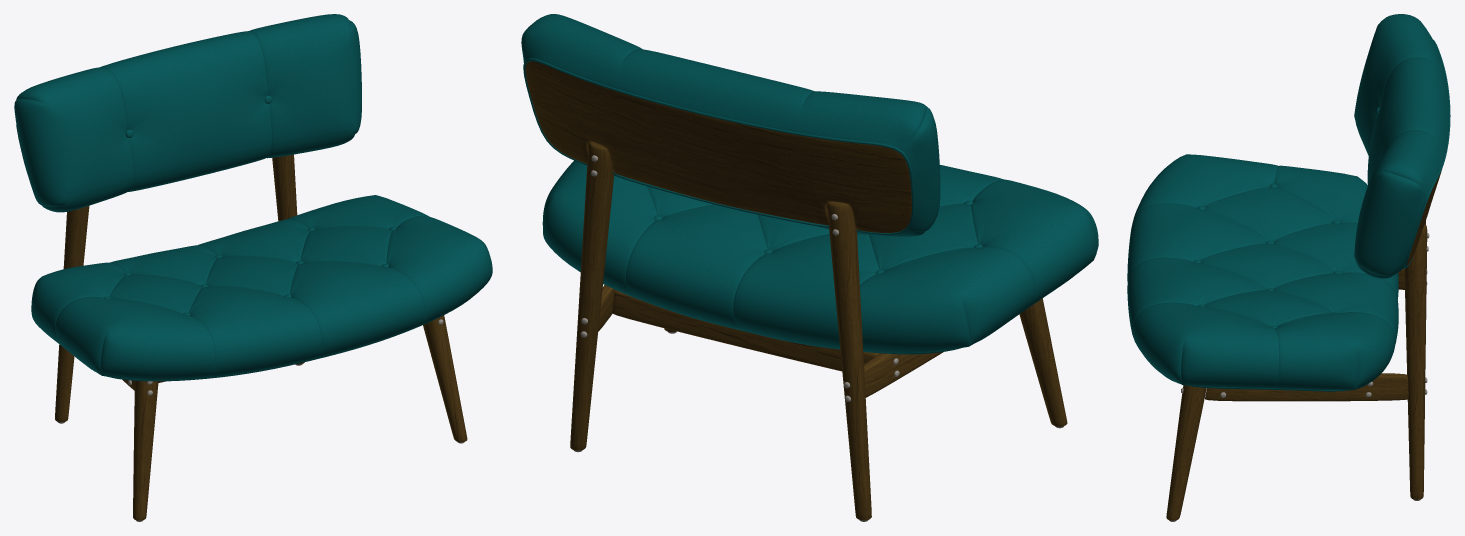
The model's file is SheenChair2.gltf.
3 renders of one model, left to right at view 1: azimuth 30°, elevation 25°; view 2: azimuth 150°, elevation 25°; view 3: azimuth 270°, elevation 25°, orthographic. The views are drawn at different scales.
Parts seen in each view (by area): view 1: SheenChair_fabric, SheenChair_wood; view 2: SheenChair_fabric, SheenChair_wood; view 3: SheenChair_fabric, SheenChair_wood.
Boxes of the visible parts, left/top/right/bottom form: SheenChair_fabric: left=14, top=14, right=492, bottom=381; SheenChair_wood: left=55, top=154, right=467, bottom=520; SheenChair_fabric: left=521, top=14, right=1098, bottom=354; SheenChair_wood: left=525, top=61, right=1067, bottom=520; SheenChair_fabric: left=1127, top=14, right=1450, bottom=391; SheenChair_wood: left=1166, top=170, right=1441, bottom=520.
Bounding box in the file's own units: 0.8266 × 0.6862 × 0.5703.
Materials: 4 (3 with a texture image).
